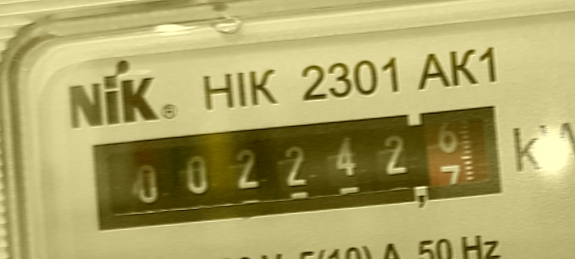0: (183, 151, 211, 195), (234, 146, 261, 190), (135, 160, 160, 206)
2: (381, 131, 409, 177), (283, 143, 309, 188)
4: (332, 133, 358, 178)
6: (435, 120, 461, 154)
7: (438, 162, 463, 186)
screen: (81, 93, 520, 245)
